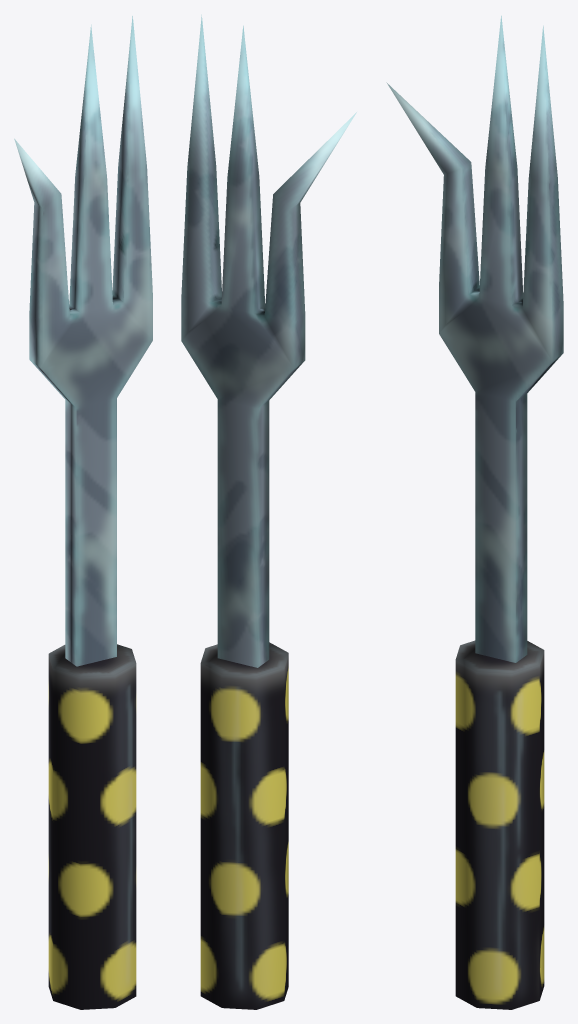
File: Fork.fbx
3 renders of one model, left to right at view 1: azimuth 30°, elevation 25°; view 2: azimuth 150°, elevation 25°; view 3: azimuth 330°, elevation 25°, orthographic.
Visible parts, largest first — view 1: fork; view 2: fork; view 3: fork.
Part boxes in pixels (x1,y1,x2,y2): fork: [14, 16, 152, 1009]; fork: [181, 14, 356, 1009]; fork: [386, 15, 563, 1009].
Size of the model in its own units: 3.93 by 23.94 by 2.04.
